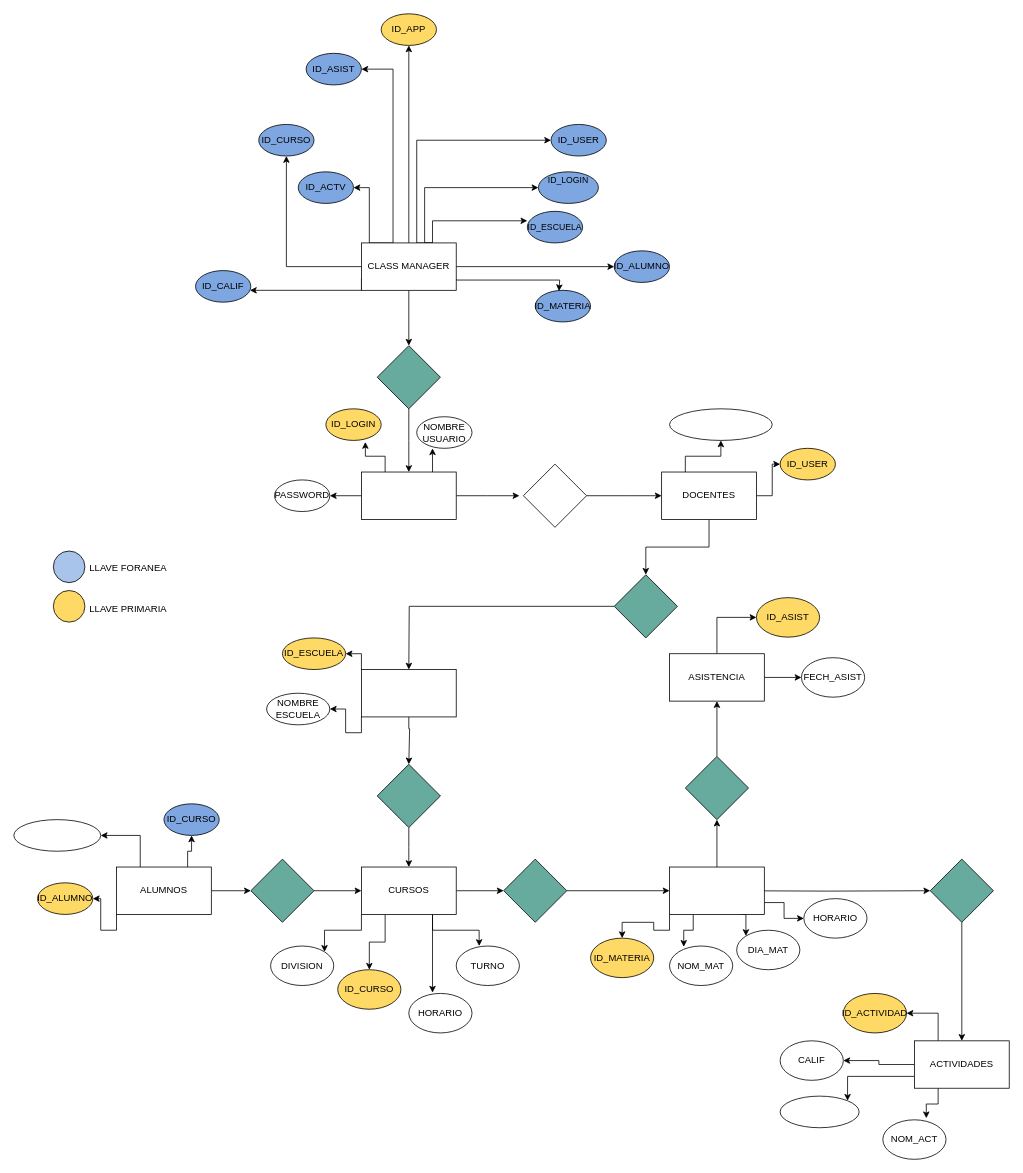
Image size: 1023x1173. Some labels were removed from this diagram. The shapes that lost their labels are listed below. From the top down, each one's centre as x and y in pixels, then its label:
point 408,377: CONTIENE
point 720,424: NOMBRE_APELLIDO
point 408,495: LOGIN
point 555,495: CREAR
point 645,606: TRABAJAN
point 408,693: ESCUELAS
point 408,796: TIENE
point 717,788: CUENTAN
point 57,835: NOMBRE_APELL
point 282,890: PERTENECEN
point 535,890: TIENEN
point 716,890: MATERIAS
point 961,890: HACEN
point 819,1111: FECH_ENTREGA
